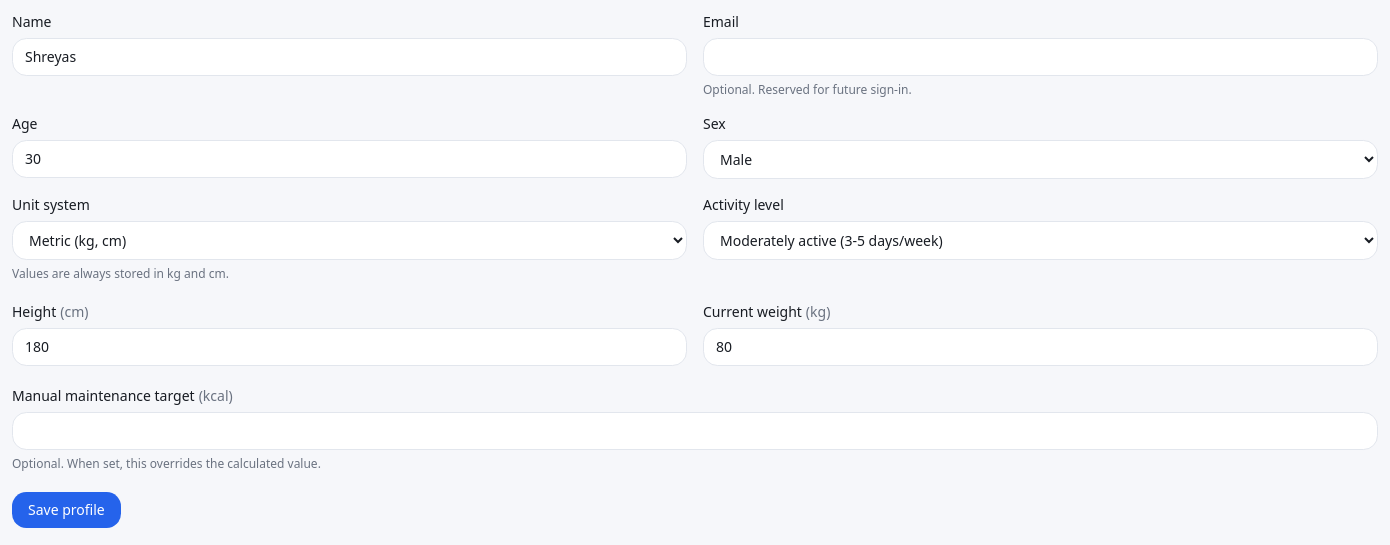
profile form validation › validates the optional manual maintenance target
Type "100" into the number field labelled "Manual maintenance target(kcal)".
click(695, 431); type("100")  # box [12, 412, 1378, 450]
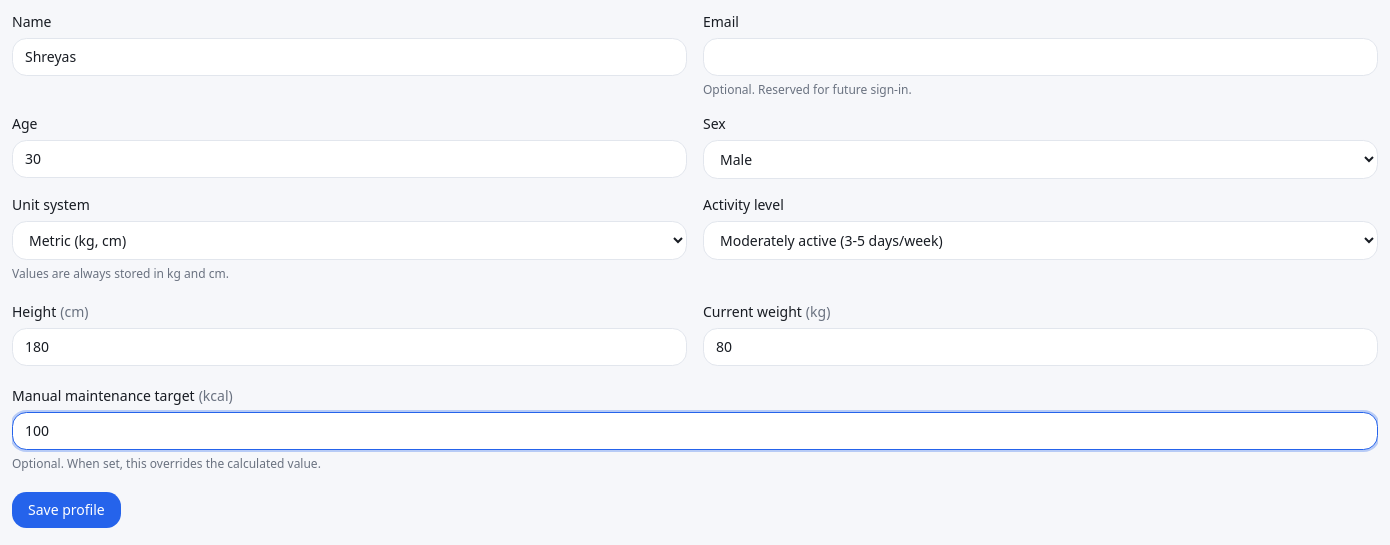
Click the button "Save profile".
click(66, 510)  # box [12, 492, 121, 528]
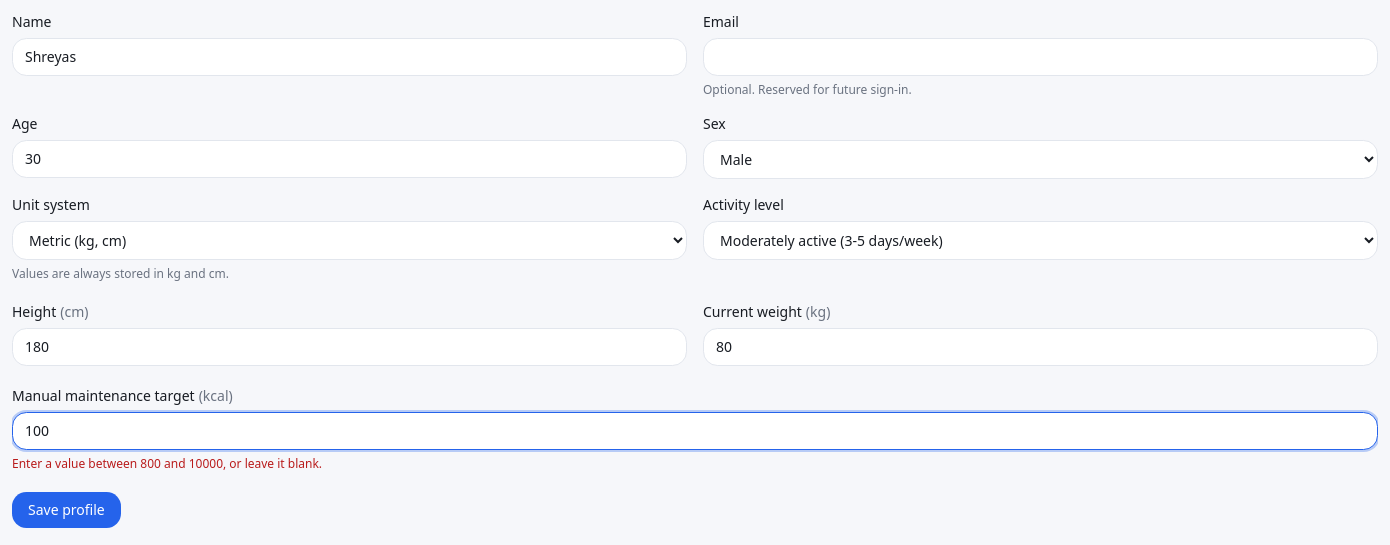
Check: the text "Enter a value between 800 and 10000, or leave it blank." is shown, box [12, 455, 322, 472]
